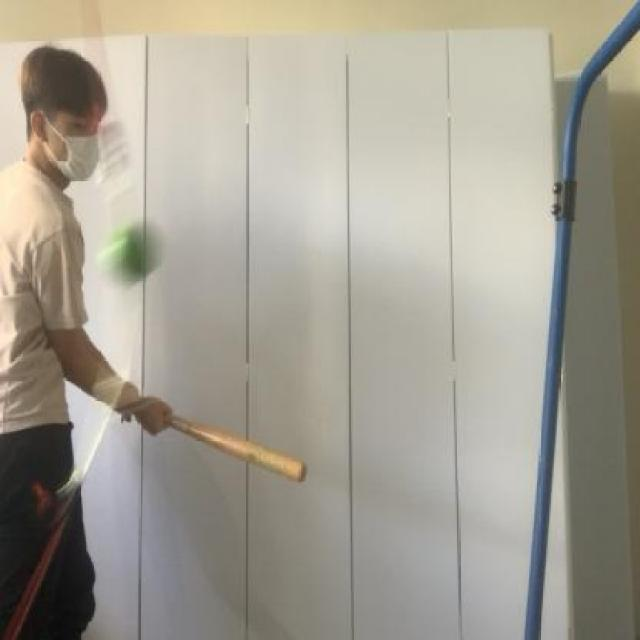baseball: (99, 210, 179, 298)
